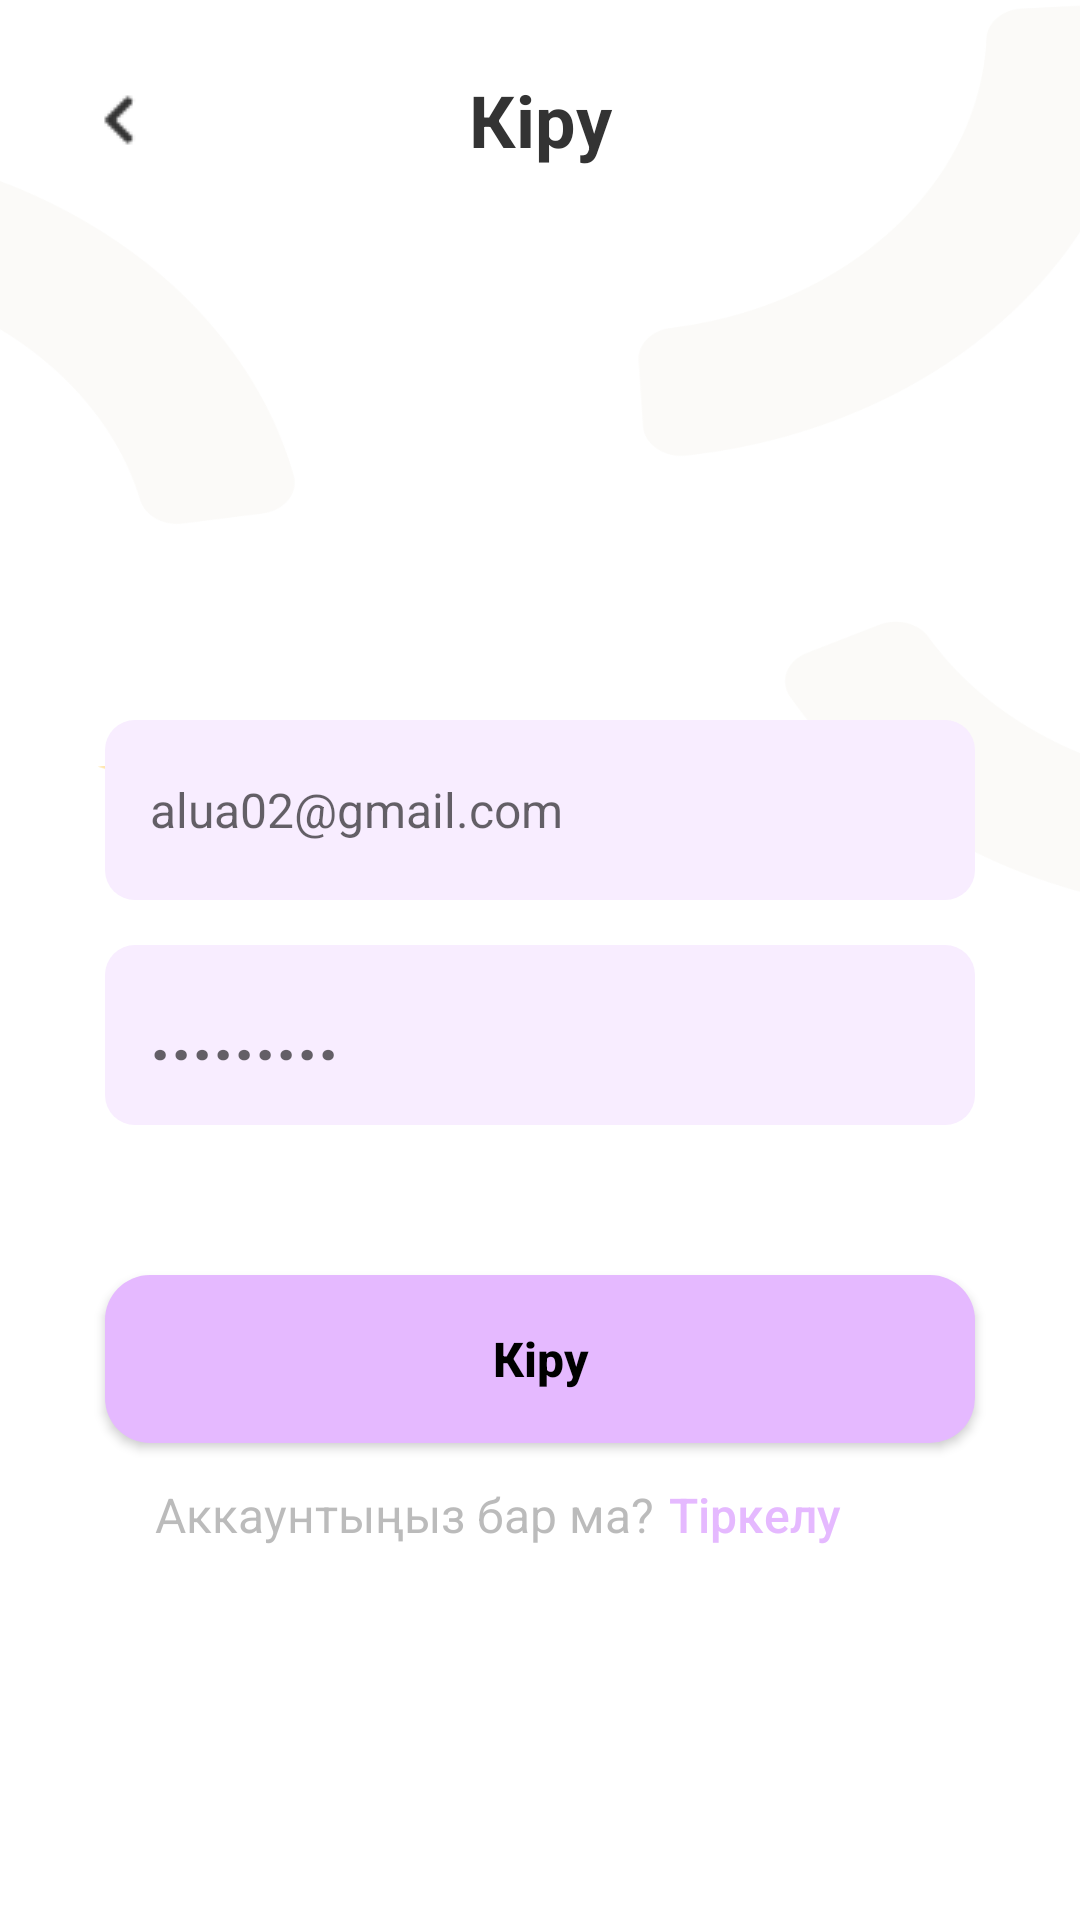

Screen size 1080px×1920px. Icon name, then its box in pixels as (x1, y1, x2, y2):
back: (104, 95, 133, 145)
